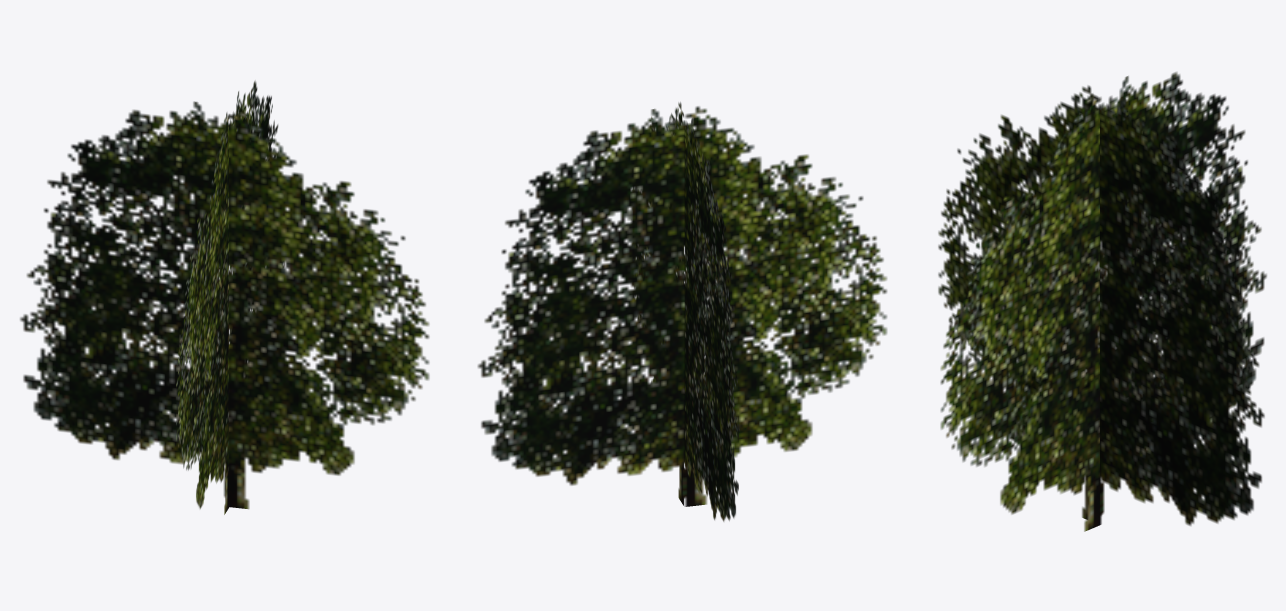
The model's file is tree111.glb.
3 views of the same model, side by side, from view 1: azimuth 30°, elevation 25°; view 2: azimuth 150°, elevation 25°; view 3: azimuth 270°, elevation 25° (orthographic). The views are drawn at different scales.
Visible parts, largest first — view 1: tree111; view 2: tree111; view 3: tree111.
Part boxes in pixels (<box>): tree111: <box>20,80,429,514</box>; tree111: <box>477,102,887,521</box>; tree111: <box>938,72,1266,531</box>.
Size of the model in its own units: 2.78 by 4 by 2.78.
1 material, 1 textured.
